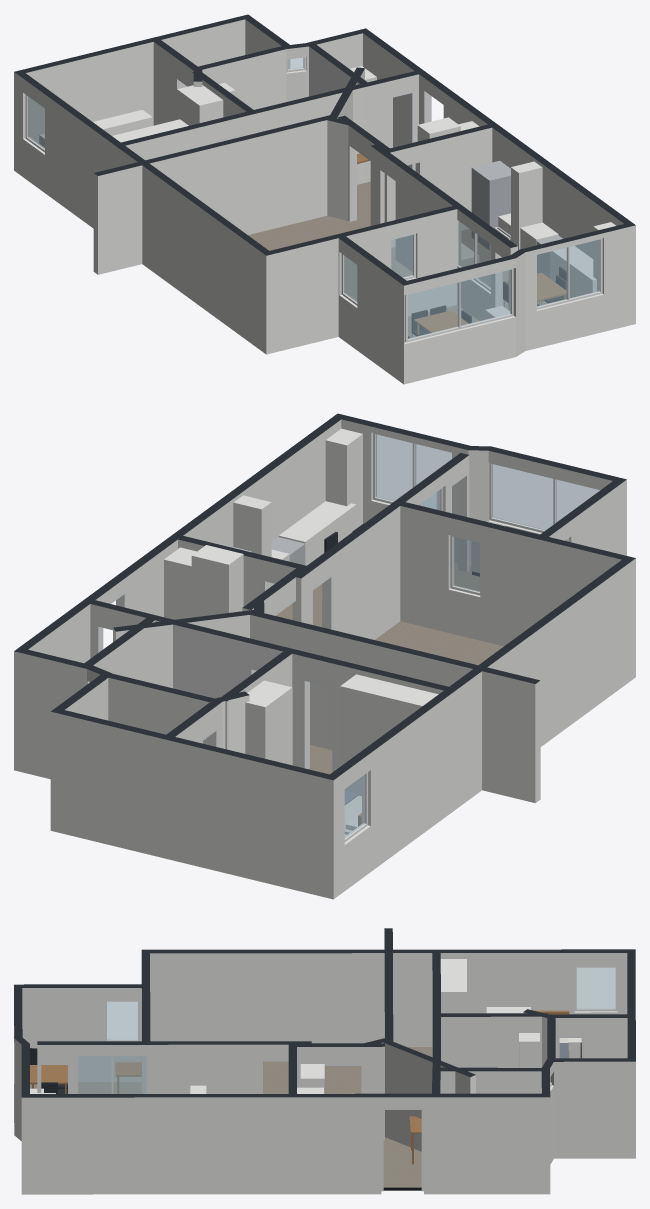
The model's file is Plan 24 Kas 10-54 – 3D model.glb.
3 views of the same model, one above another, from view 1: azimuth 30°, elevation 25°; view 2: azimuth 150°, elevation 25°; view 3: azimuth 270°, elevation 25° (orthographic). The views are drawn at different scales.
Parts seen in each view (by area): view 1: Part_10_Wall_white, Part_11_WallCap, Part_9_Glass, Part_7_Furniture_white, Part_2_WindowFrame, Part_1_Floor_carpet, Part_6_Furniture_metal, Part_8_Furniture_wood, Part_3_Furniture_dark; view 2: Part_10_Wall_white, Part_7_Furniture_white, Part_11_WallCap, Part_9_Glass, Part_2_WindowFrame, Part_1_Floor_carpet, Part_6_Furniture_metal; view 3: Part_10_Wall_white, Part_11_WallCap, Part_9_Glass, Part_1_Floor_carpet, Part_7_Furniture_white, Part_2_WindowFrame, Part_8_Furniture_wood, Part_3_Furniture_dark.
Part boxes in pixels (left/top/right/bottom): Part_10_Wall_white: left=14, top=19, right=635, bottom=384; Part_11_WallCap: left=14, top=14, right=635, bottom=285; Part_9_Glass: left=28, top=57, right=599, bottom=339; Part_7_Furniture_white: left=39, top=66, right=615, bottom=319; Part_2_WindowFrame: left=25, top=56, right=602, bottom=342; Part_1_Floor_carpet: left=248, top=165, right=547, bottom=337; Part_6_Furniture_metal: left=412, top=160, right=562, bottom=337; Part_8_Furniture_wood: left=357, top=153, right=566, bottom=334; Part_3_Furniture_dark: left=408, top=266, right=566, bottom=338; Part_10_Wall_white: left=14, top=419, right=635, bottom=899; Part_7_Furniture_white: left=164, top=428, right=504, bottom=835; Part_11_WallCap: left=14, top=413, right=635, bottom=780; Part_9_Glass: left=344, top=434, right=599, bottom=837; Part_2_WindowFrame: left=95, top=433, right=600, bottom=841; Part_1_Floor_carpet: left=276, top=562, right=503, bottom=774; Part_6_Furniture_metal: left=217, top=537, right=305, bottom=565; Part_10_Wall_white: left=14, top=929, right=635, bottom=1194; Part_11_WallCap: left=14, top=928, right=635, bottom=1097; Part_9_Glass: left=78, top=967, right=615, bottom=1093; Part_1_Floor_carpet: left=30, top=1047, right=432, bottom=1187; Part_7_Furniture_white: left=30, top=959, right=581, bottom=1093; Part_2_WindowFrame: left=39, top=967, right=617, bottom=1191; Part_8_Furniture_wood: left=30, top=1010, right=569, bottom=1164; Part_3_Furniture_dark: left=30, top=1042, right=581, bottom=1093.
Size of the model in its own units: 9.62 by 2.65 by 14.95.
Materials: 12 (1 with a texture image).
